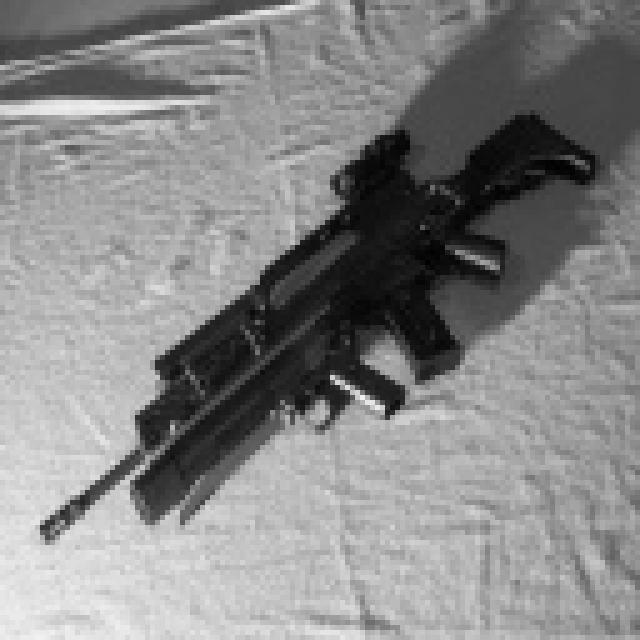Rifle: (12, 110, 640, 584)
